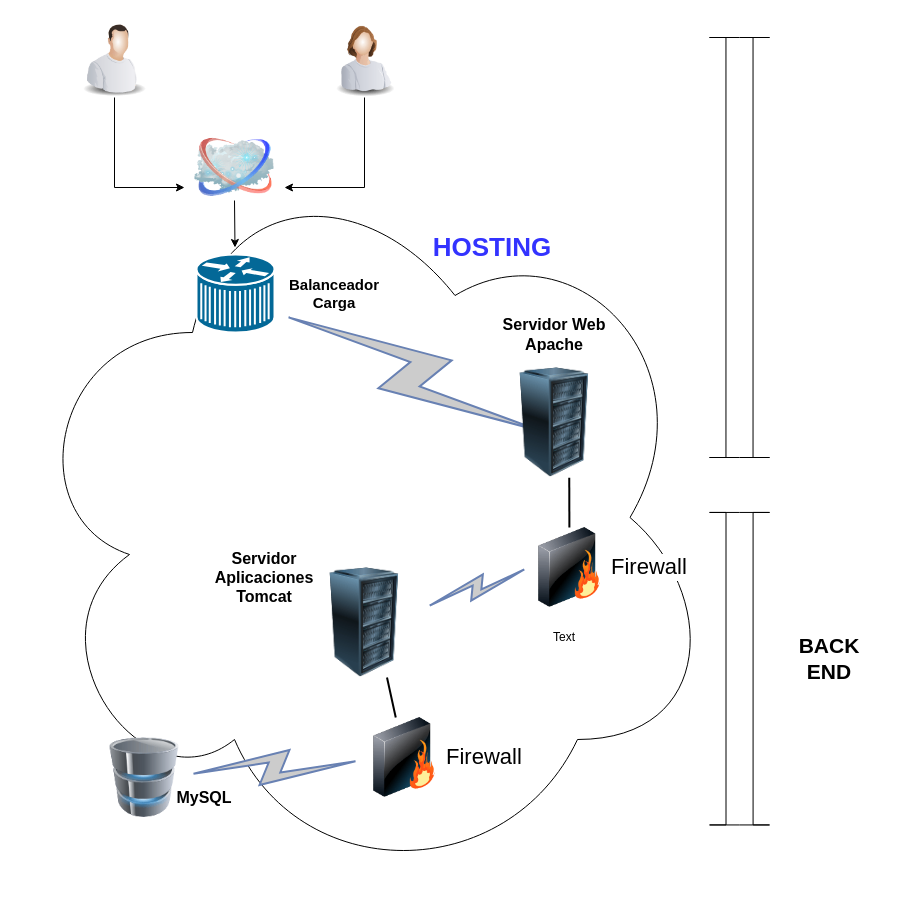
Some shapes in this 902 by 905 pixel diagram are drawn without their labels. Here are the shapes that lost their labels. From the top down, the centre of each, then its label:
At (x=234, y=167): "Internet".
At (x=739, y=247): "FRONT END".
